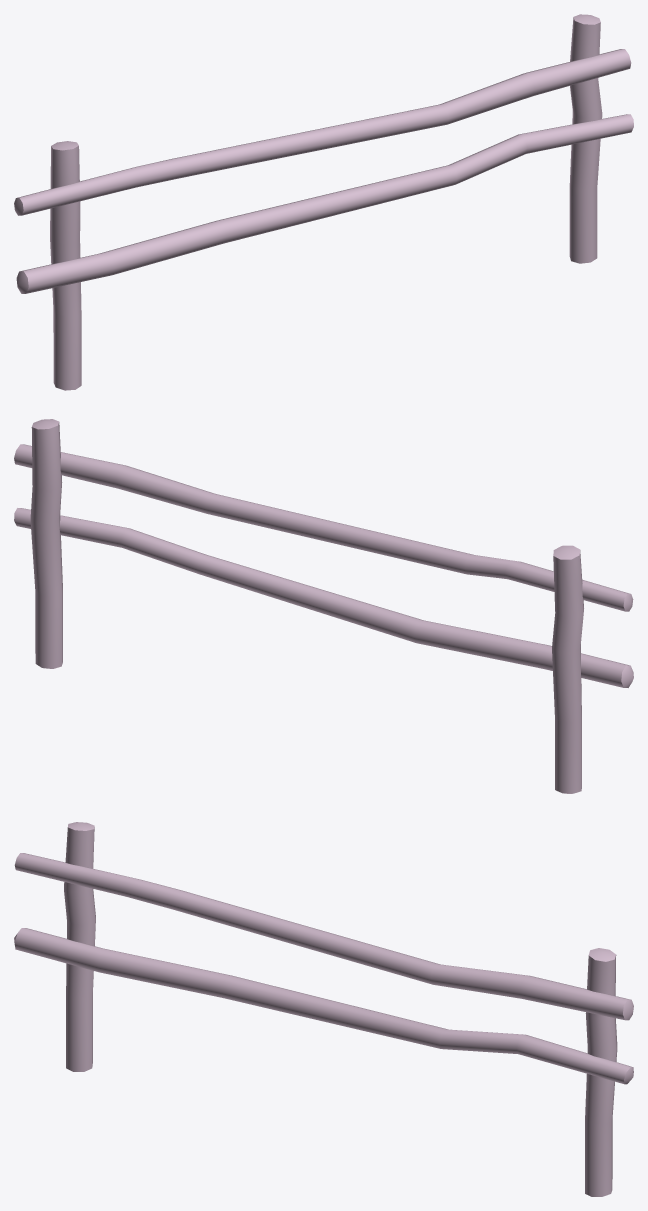
File: fence_02_lod.fbx
3 renders of one model, top to bottom at view 1: azimuth 30°, elevation 25°; view 2: azimuth 150°, elevation 25°; view 3: azimuth 330°, elevation 25°, orthographic.
Parts seen in each view (by area): view 1: Cylinder.009; view 2: Cylinder.009; view 3: Cylinder.009.
Part boxes in pixels (x1,y1,x2,y2): Cylinder.009: [14, 14, 633, 390]; Cylinder.009: [14, 419, 633, 793]; Cylinder.009: [14, 822, 633, 1196].
Size of the model in its own units: 4.06 by 1.54 by 0.2898.
